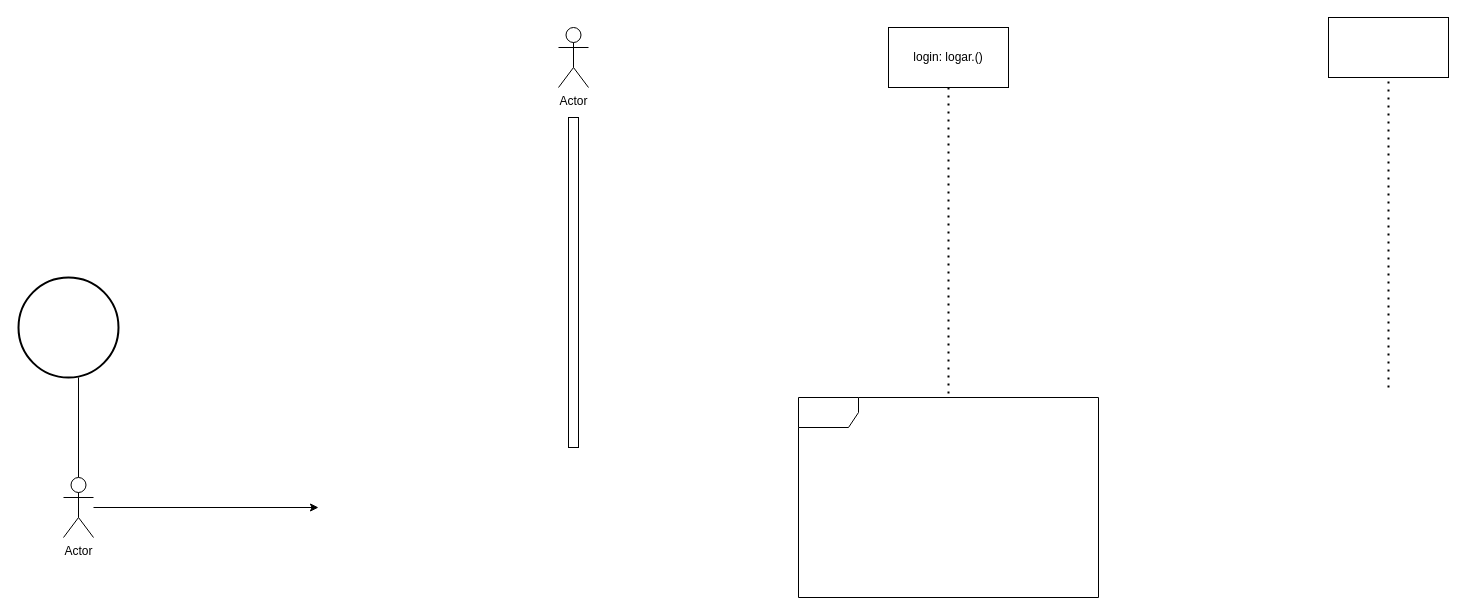
This 1466x615 diagram has some shape labels left out. Here are the shapes that lost their labels. From the top down, the centre of each, then its label:
(x=1388, y=47): cadastro; cadastra
(x=948, y=497): frame
